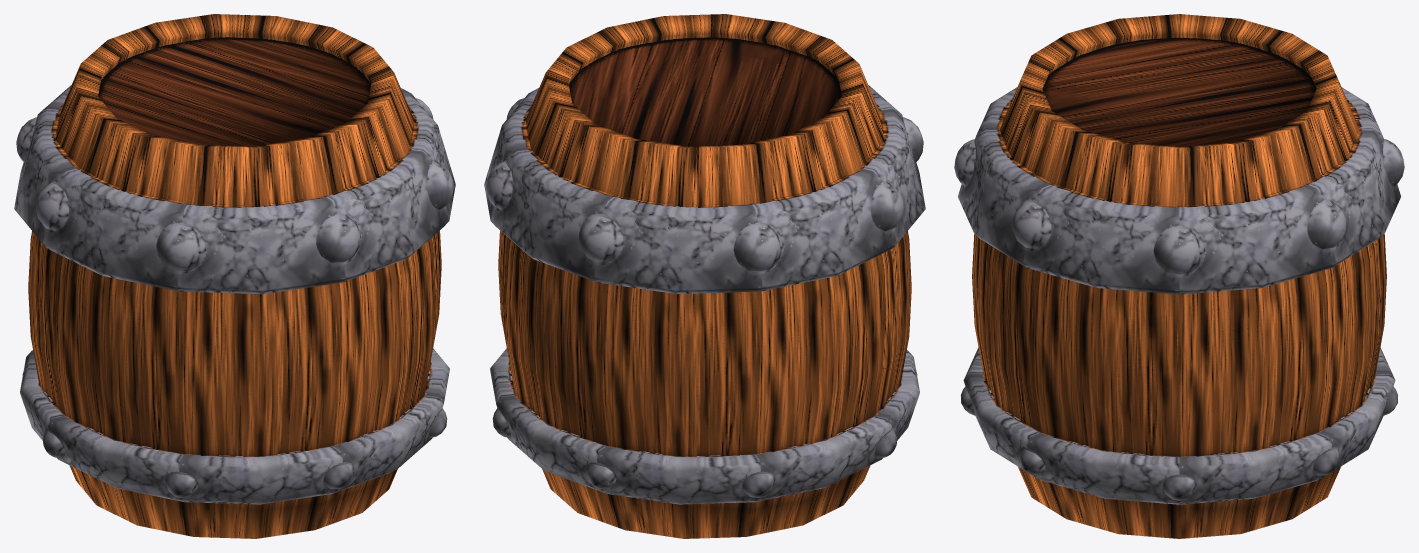
File: Barrel.fbx
3 views of the same model, side by side, from view 1: azimuth 30°, elevation 25°; view 2: azimuth 150°, elevation 25°; view 3: azimuth 270°, elevation 25° (orthographic).
Parts seen in each view (by area): view 1: Barrel; view 2: Barrel; view 3: Barrel.
Part boxes in pixels (x1=…): Barrel: x1=14, y1=14, x2=455, y2=538; Barrel: x1=484, y1=14, x2=925, y2=538; Barrel: x1=954, y1=14, x2=1404, y2=538.
Size of the model in its own units: 1.21 by 1.15 by 1.21.
